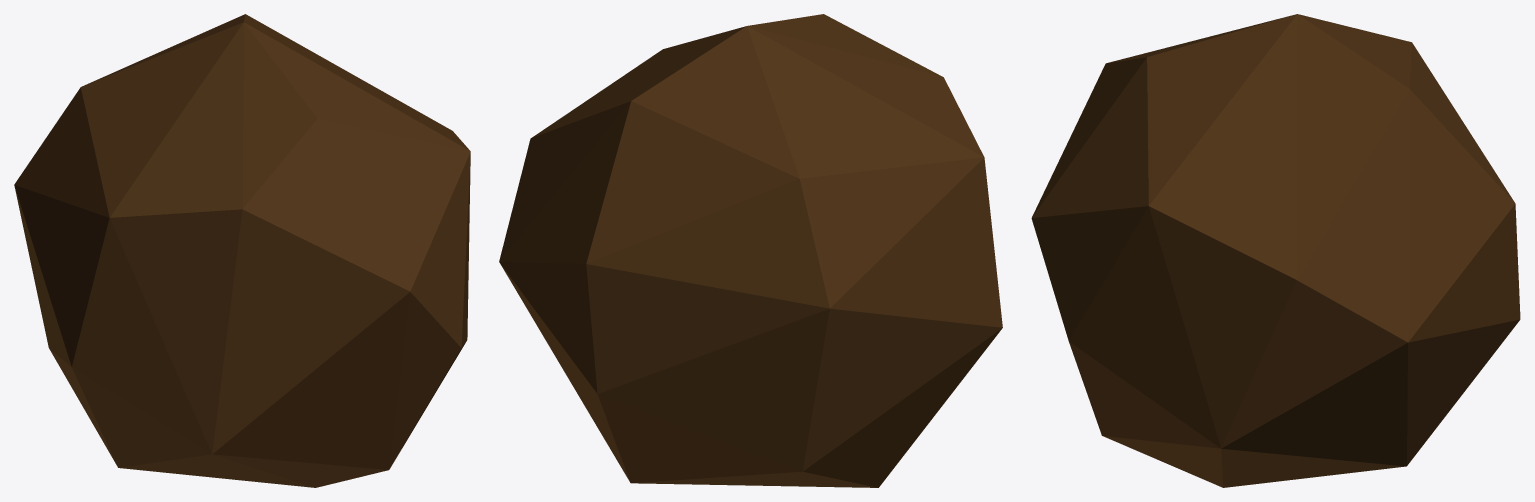
The model's file is asteroid10.fbx.
The picture shows the model from 3 angles, left to right: view 1: azimuth 30°, elevation 25°; view 2: azimuth 150°, elevation 25°; view 3: azimuth 270°, elevation 25°; orthographic projection. The views are drawn at different scales.
Parts seen in each view (by area): view 1: quickmaterial1; view 2: quickmaterial1; view 3: quickmaterial1.
Boxes of the visible parts, x1,y1,x2,y2 form: quickmaterial1: (14, 14, 470, 487); quickmaterial1: (499, 14, 1002, 487); quickmaterial1: (1031, 14, 1520, 487).
Bounding box in the file's own units: 1.71 × 1.75 × 1.7.
